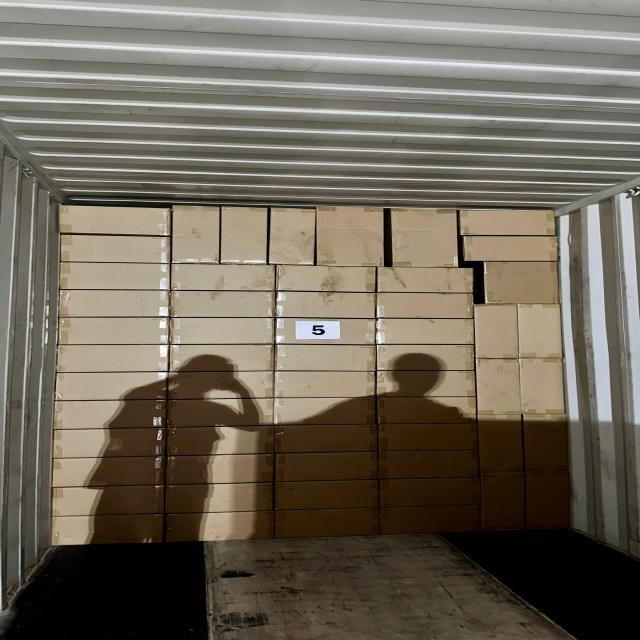Carton: (48, 482, 168, 520), (390, 205, 458, 268), (318, 205, 388, 265), (48, 453, 166, 488), (55, 344, 167, 380), (55, 203, 173, 237), (50, 370, 170, 403), (164, 423, 277, 458), (59, 232, 173, 266), (167, 453, 275, 488), (55, 287, 173, 319), (375, 476, 489, 509), (58, 260, 174, 292), (273, 477, 382, 511), (160, 510, 274, 542), (272, 450, 382, 483), (273, 508, 383, 541), (162, 397, 279, 428), (53, 400, 165, 432), (272, 367, 380, 400), (50, 518, 162, 549), (167, 342, 278, 373), (166, 483, 275, 514), (484, 261, 560, 305), (274, 316, 378, 348), (376, 449, 483, 480), (53, 428, 163, 458), (166, 370, 276, 400), (274, 342, 380, 373), (59, 318, 168, 348), (372, 316, 481, 346), (170, 290, 276, 320), (170, 318, 276, 348), (381, 502, 480, 534), (274, 423, 376, 454), (374, 369, 479, 399), (375, 422, 479, 452), (454, 208, 560, 237), (374, 343, 479, 372), (374, 396, 479, 425), (373, 291, 477, 320), (272, 398, 375, 427), (172, 203, 222, 262), (169, 265, 273, 293), (275, 265, 375, 294), (374, 266, 476, 294), (220, 203, 268, 262), (270, 204, 317, 264), (480, 471, 525, 532), (525, 412, 571, 471), (277, 292, 377, 319), (478, 414, 524, 471), (461, 233, 558, 260), (476, 359, 520, 417), (523, 358, 568, 414), (475, 304, 518, 361), (528, 474, 571, 531), (522, 304, 565, 360)
